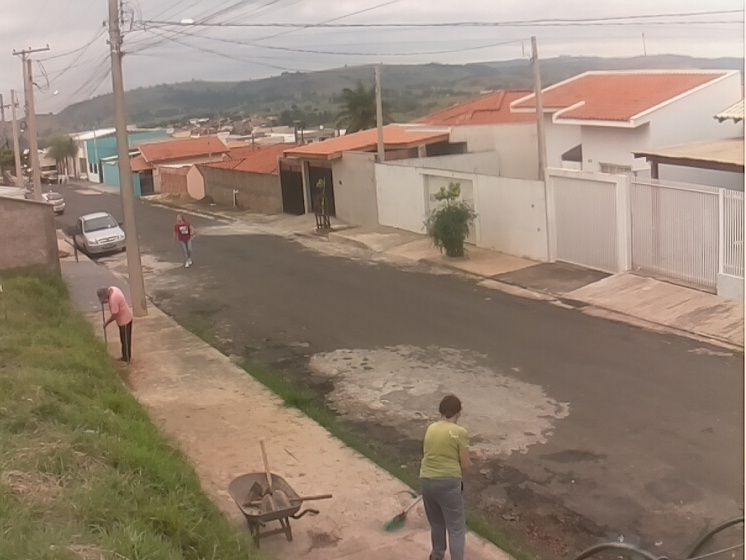person: (416, 394, 470, 560), (95, 284, 135, 364), (175, 214, 196, 269)
